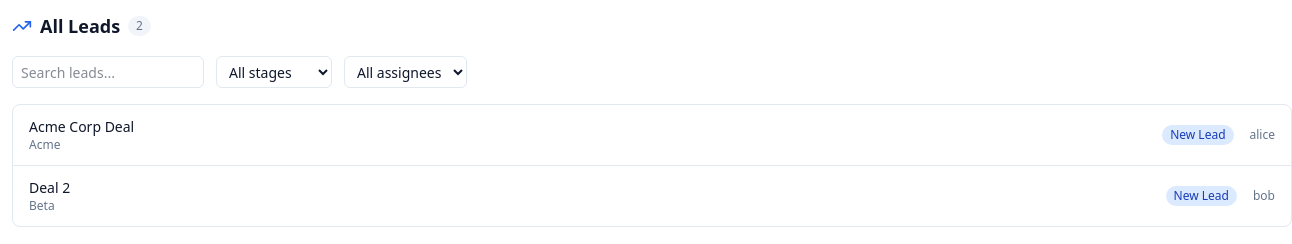
Test: LeadsManagementView › filters leads by assignee for tier 5+
Expected: the link with test id "lead-row-t1" is shown, [13,105,1291,166]
Expected: the link with test id "lead-row-t2" is shown, [13,166,1291,226]
Select "alice" in the dropdown with test id "leads-assignee-filter": point(406, 72) [344,56,467,88]
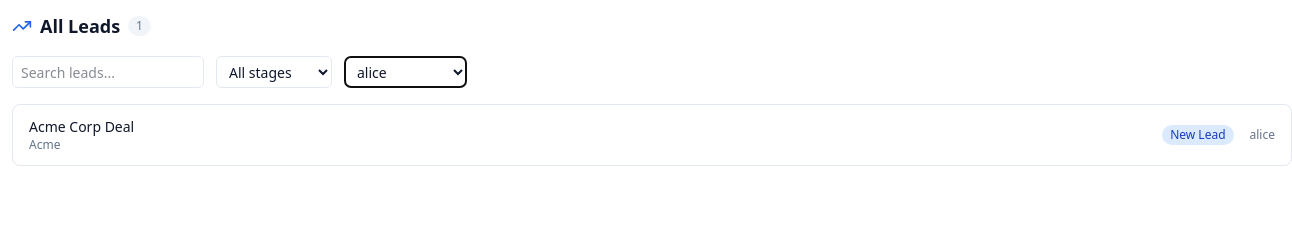
Expected: the link with test id "lead-row-t1" is shown, [13,105,1291,165]
Now the link with test id "lead-row-t2" is gone
